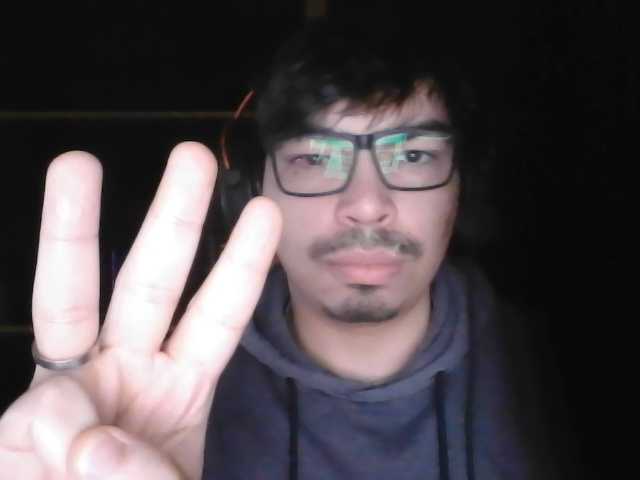three: (1, 130, 307, 480)
